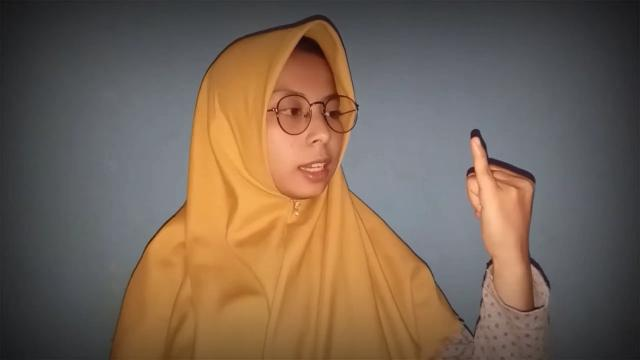J: (465, 132, 535, 250)
